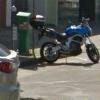Motorcycle: (36, 18, 100, 71)
